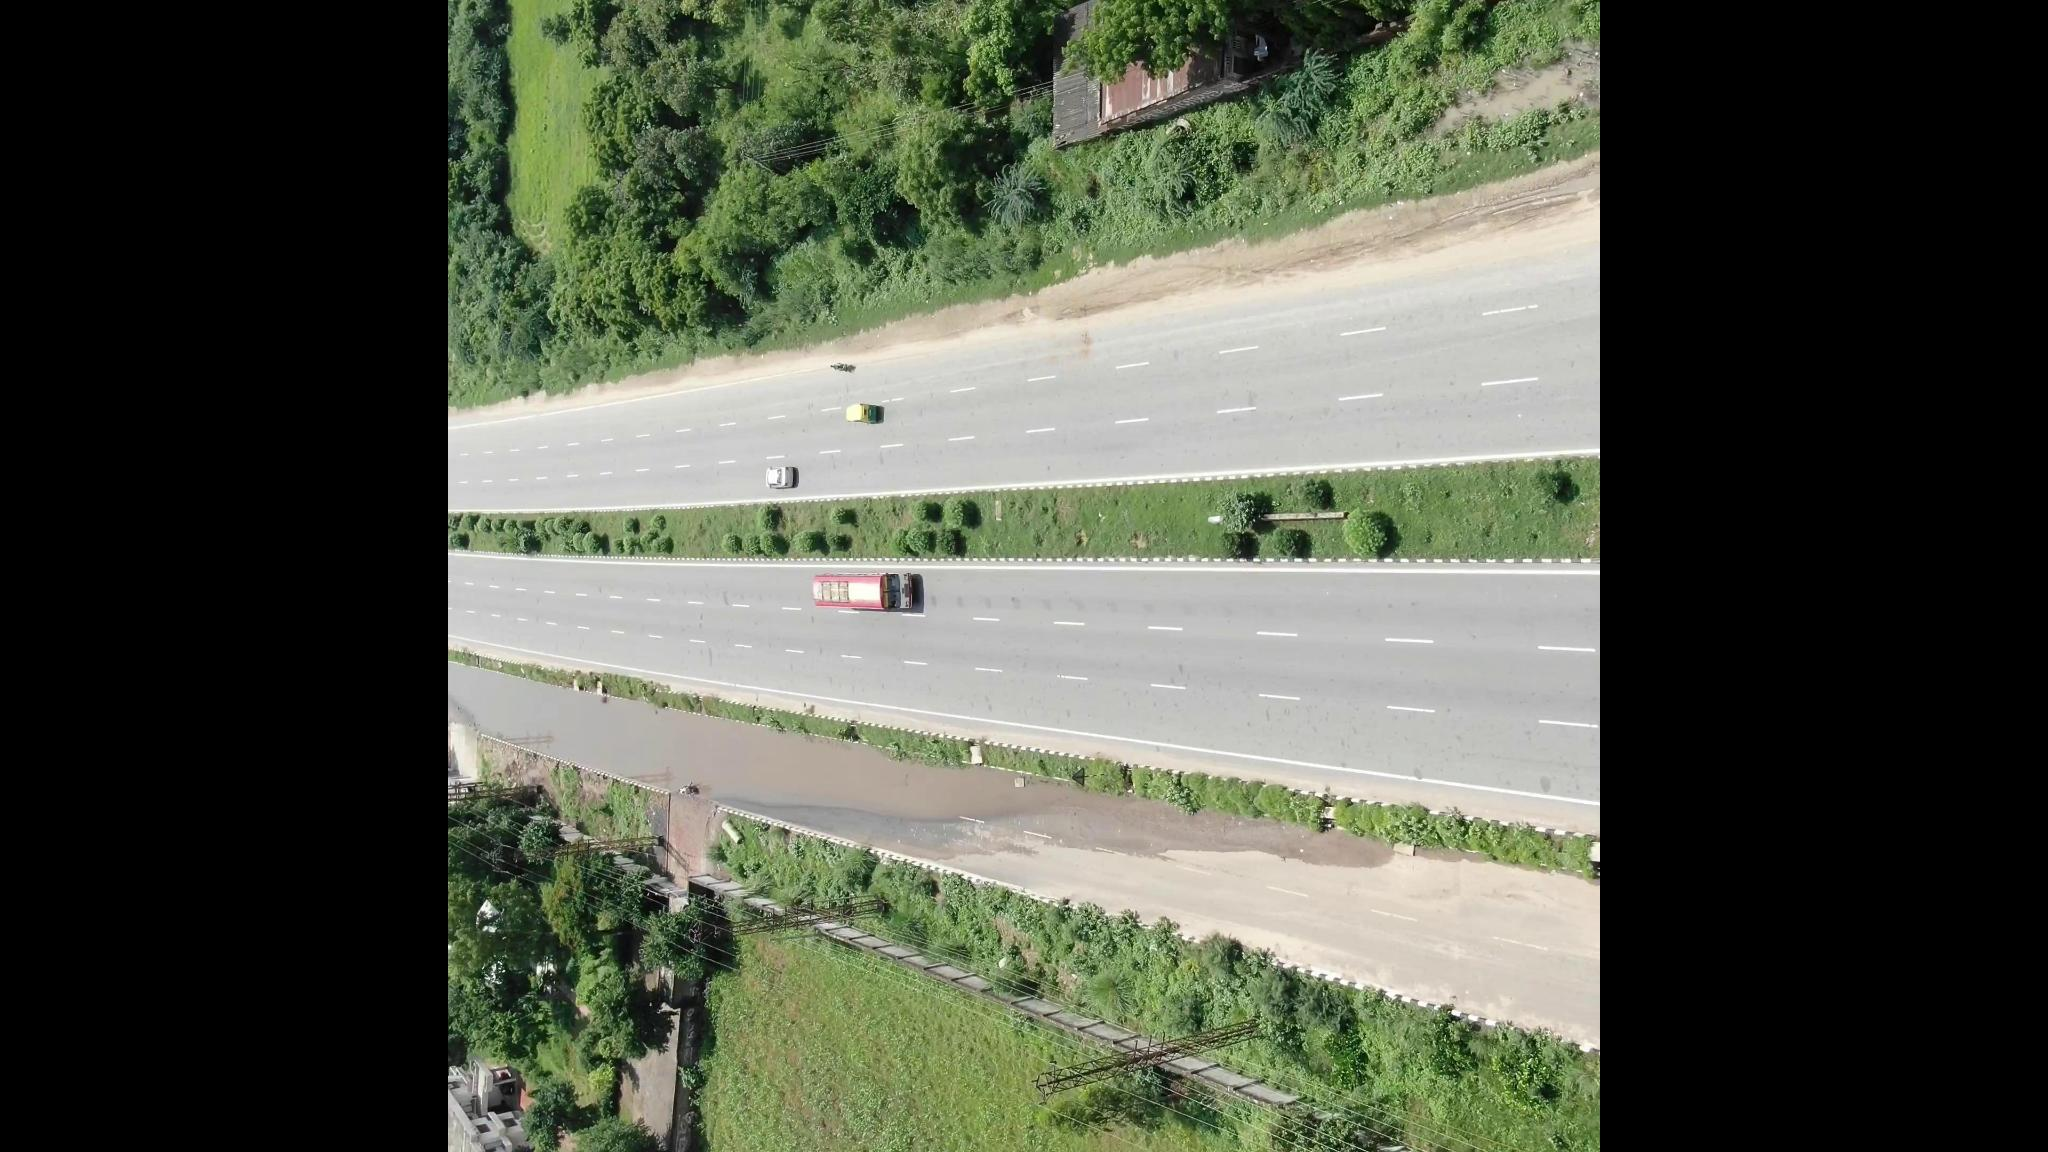Waterlogging: (470, 677, 1013, 821)
